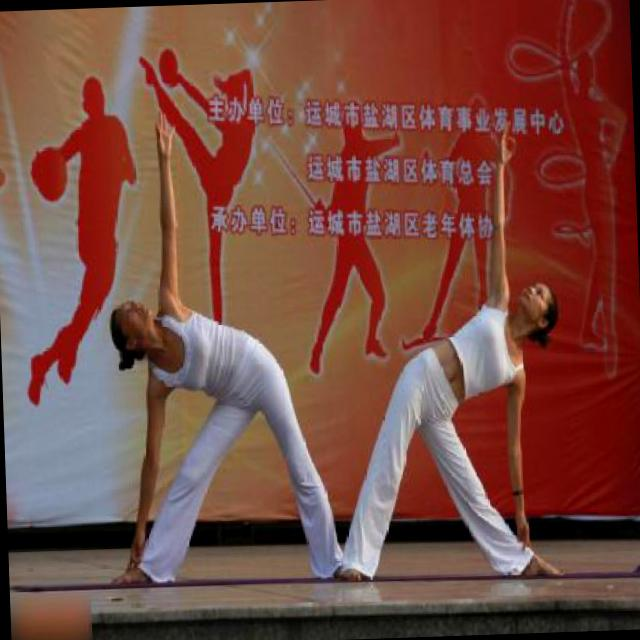Person: (99, 97, 344, 597)
